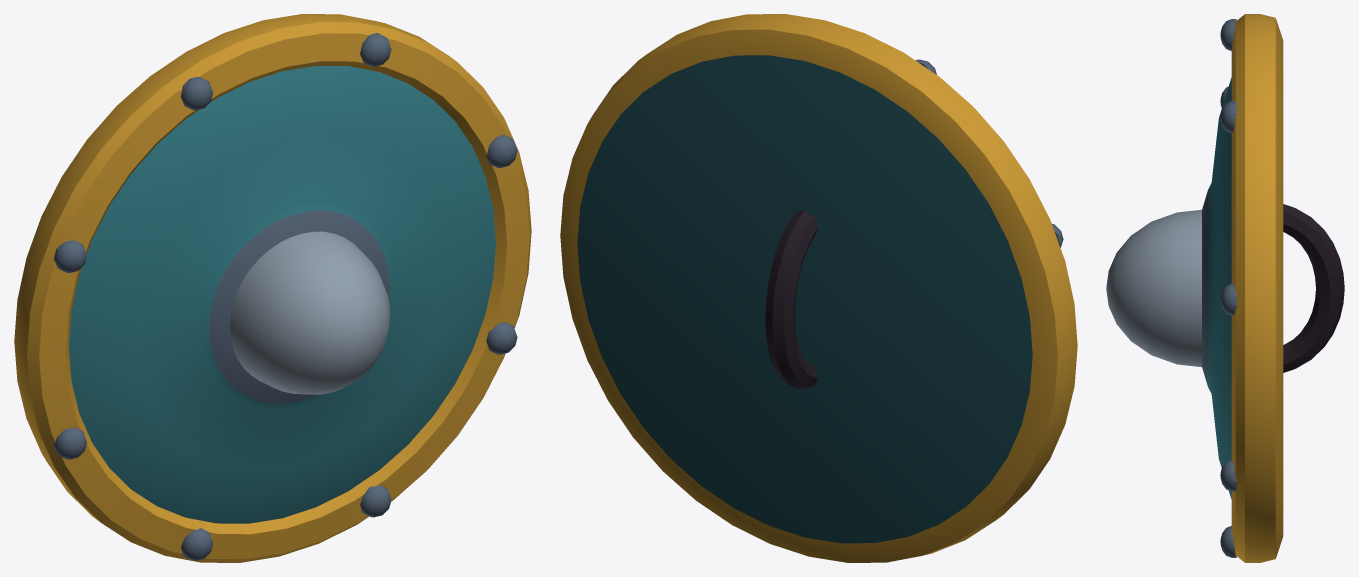
Rendered from RoundShield_15.glb.
3 renders of one model, left to right at view 1: azimuth 30°, elevation 25°; view 2: azimuth 150°, elevation 25°; view 3: azimuth 270°, elevation 25°, orthographic. The views are drawn at different scales.
Parts seen in each view (by area): view 1: RoundShield_15; view 2: RoundShield_15; view 3: RoundShield_15.
Part boxes in pixels (<box>): RoundShield_15: <box>14,14,531,562</box>; RoundShield_15: <box>560,14,1077,562</box>; RoundShield_15: <box>1106,14,1344,562</box>.
Bounding box in the file's own units: 2.87 × 2.87 × 1.25.
